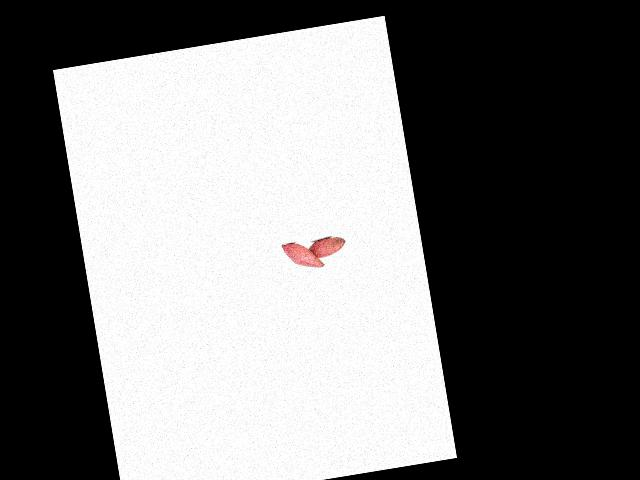sweet_potato: (304, 234, 348, 262)
